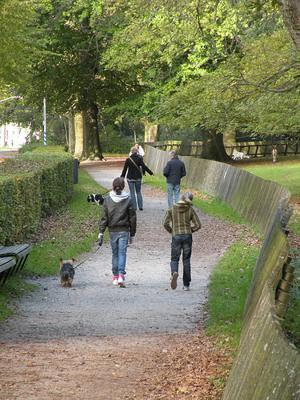person: (120, 145, 154, 208)
